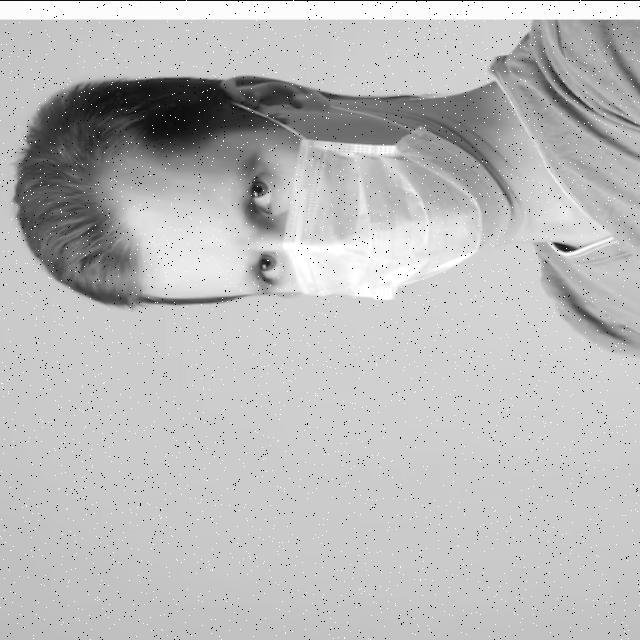face_mask: (121, 76, 479, 304)
